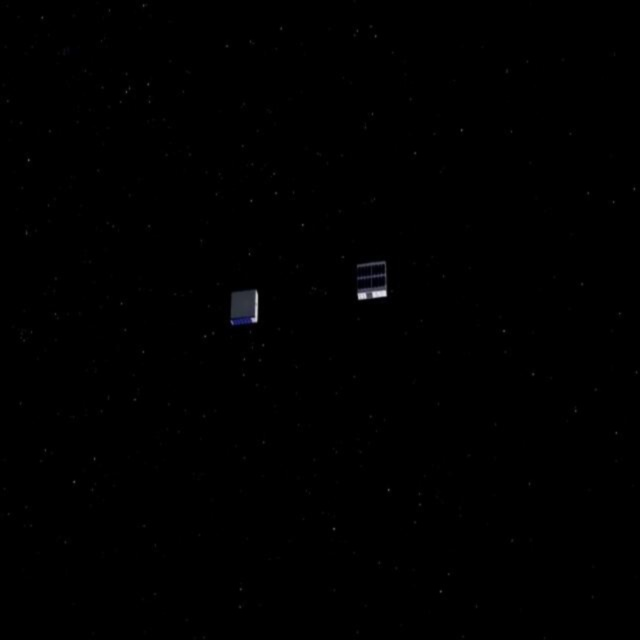large_debris: (350, 251, 397, 314), (226, 282, 262, 334)
